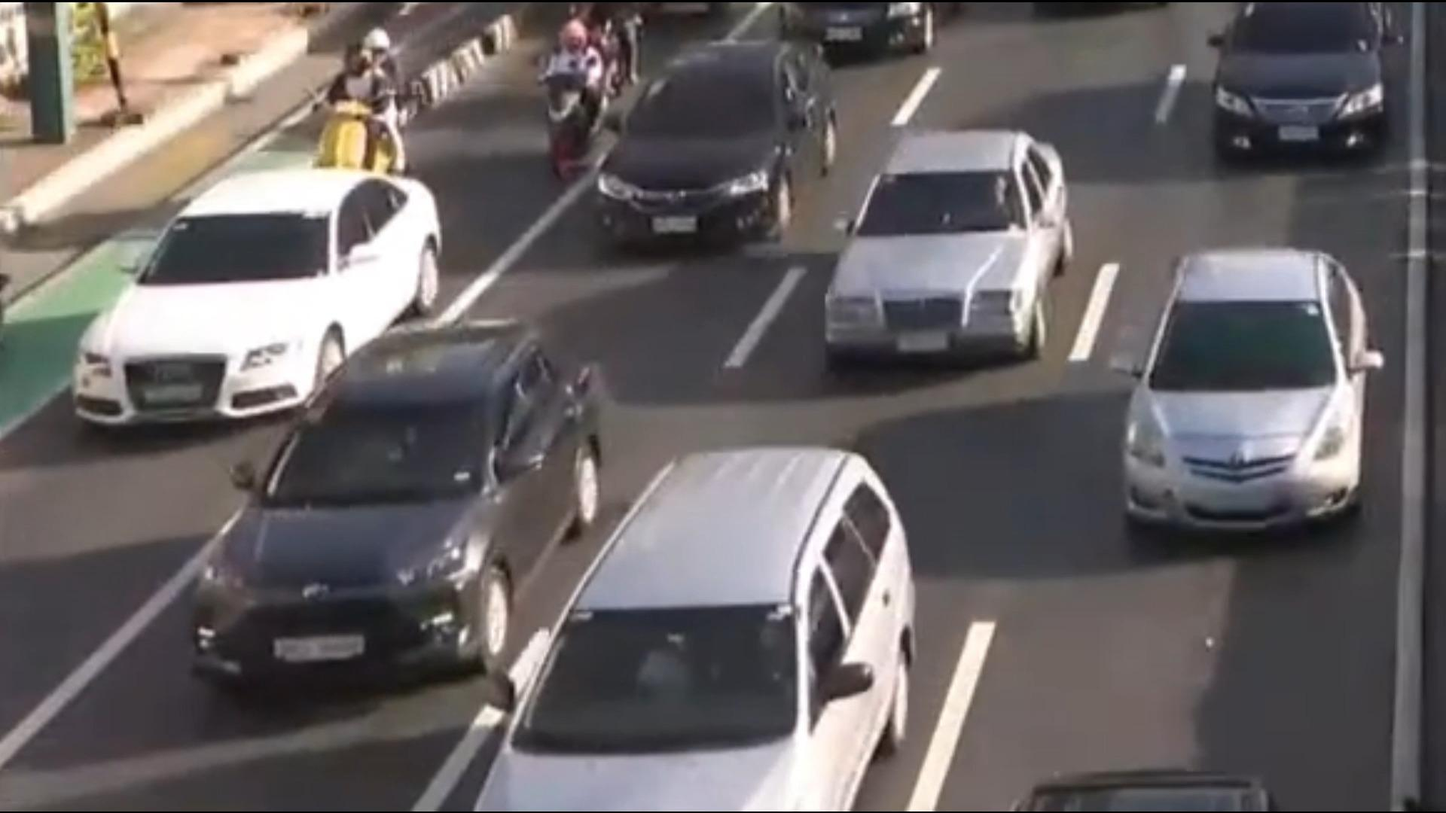Motorcycle: (307, 23, 434, 181), (516, 17, 624, 190), (570, 6, 667, 84)
Pickup: (147, 307, 676, 735)
SUV: (421, 433, 993, 813), (1205, 0, 1414, 177)
Sedan: (28, 145, 467, 447), (1096, 239, 1416, 568), (774, 108, 1111, 383), (555, 38, 872, 267)
